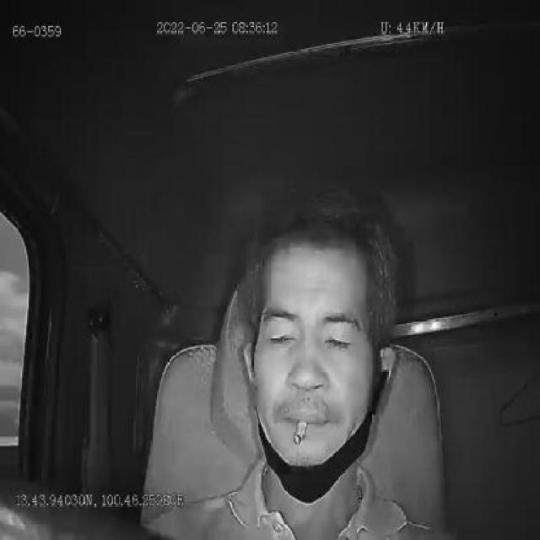smoking: (292, 421, 306, 446)
